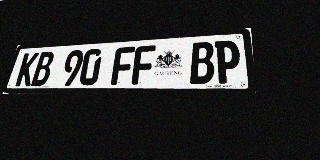0: (78, 48, 103, 86)
9: (60, 49, 85, 86)
B: (190, 41, 214, 84), (31, 51, 55, 86)
F: (131, 45, 156, 85), (110, 46, 135, 85)
K: (15, 52, 39, 86)
P: (215, 40, 241, 84)
